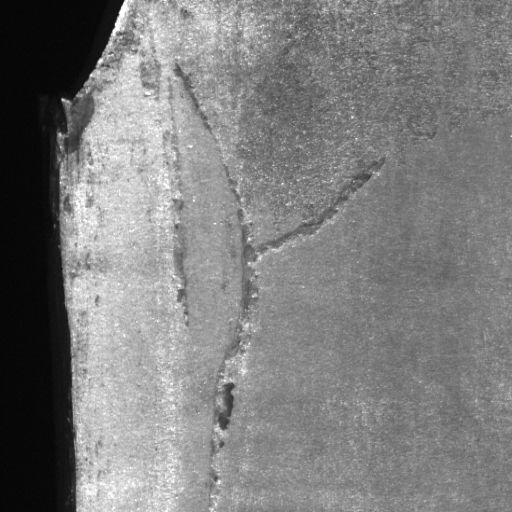aokeng: (164, 63, 263, 512)
